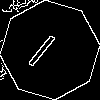I: (25, 25, 65, 69)
